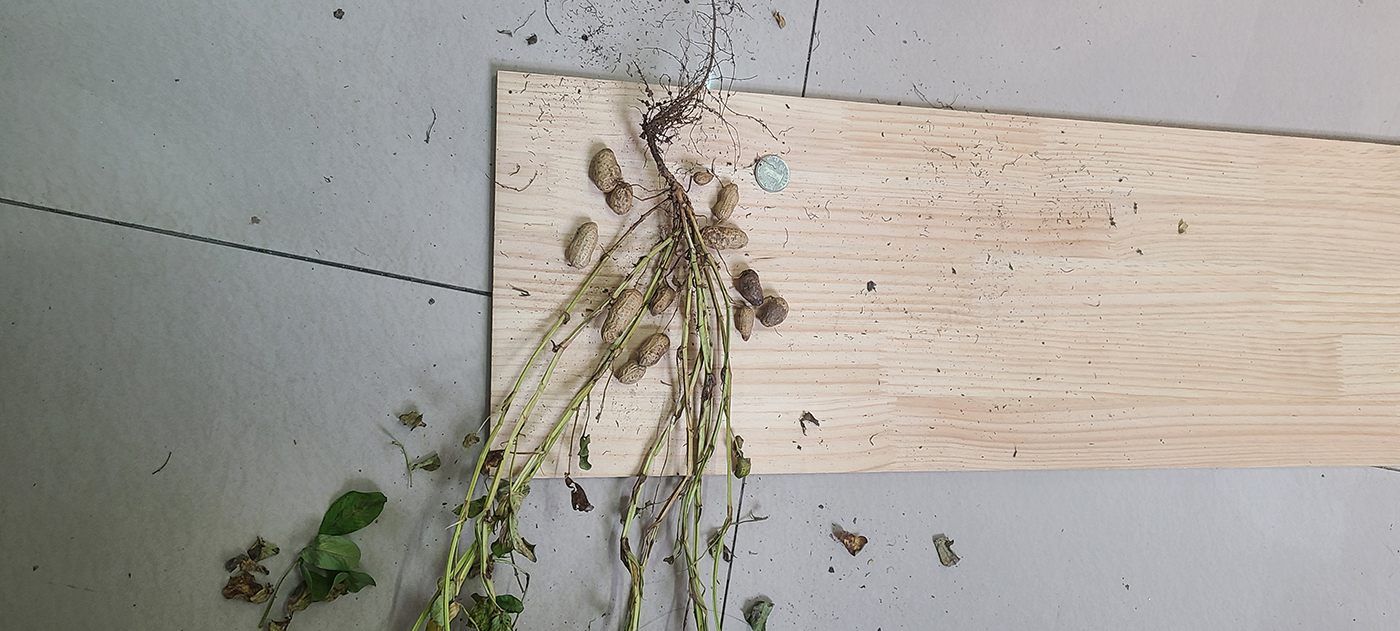h: (602, 288, 644, 343), (565, 221, 598, 269), (588, 148, 622, 191), (699, 225, 748, 250), (711, 185, 739, 221), (639, 333, 670, 365), (607, 182, 633, 216), (650, 285, 677, 316), (615, 360, 646, 384), (734, 306, 754, 341)
l: (735, 269, 763, 307), (760, 297, 789, 328)
